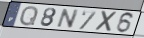6: (116, 11, 136, 34)
7: (78, 9, 98, 31)
8: (39, 7, 57, 28)
N: (55, 8, 81, 29)
Q: (19, 5, 40, 27)
X: (94, 10, 119, 33)
